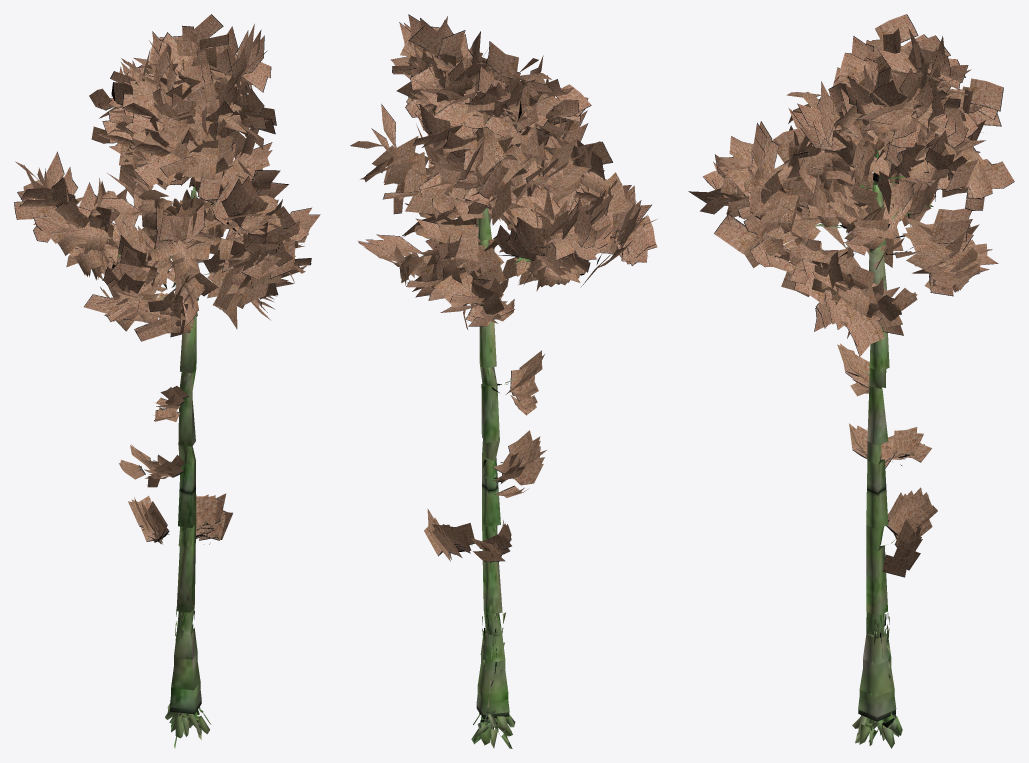
Rendered from tree_3.glb.
3 renders of one model, left to right at view 1: azimuth 30°, elevation 25°; view 2: azimuth 150°, elevation 25°; view 3: azimuth 270°, elevation 25°, orthographic. The views are drawn at different scales.
Visible parts, largest first — view 1: Bark___1; view 2: Bark___1; view 3: Bark___1.
Part boxes in pixels (x1,y1,x2,y2): Bark___1: (14, 14, 320, 748); Bark___1: (350, 14, 657, 748); Bark___1: (688, 14, 1014, 748).
Bounding box in the file's own units: 13.9 × 36.81 × 14.98.
1 material, 1 textured.
